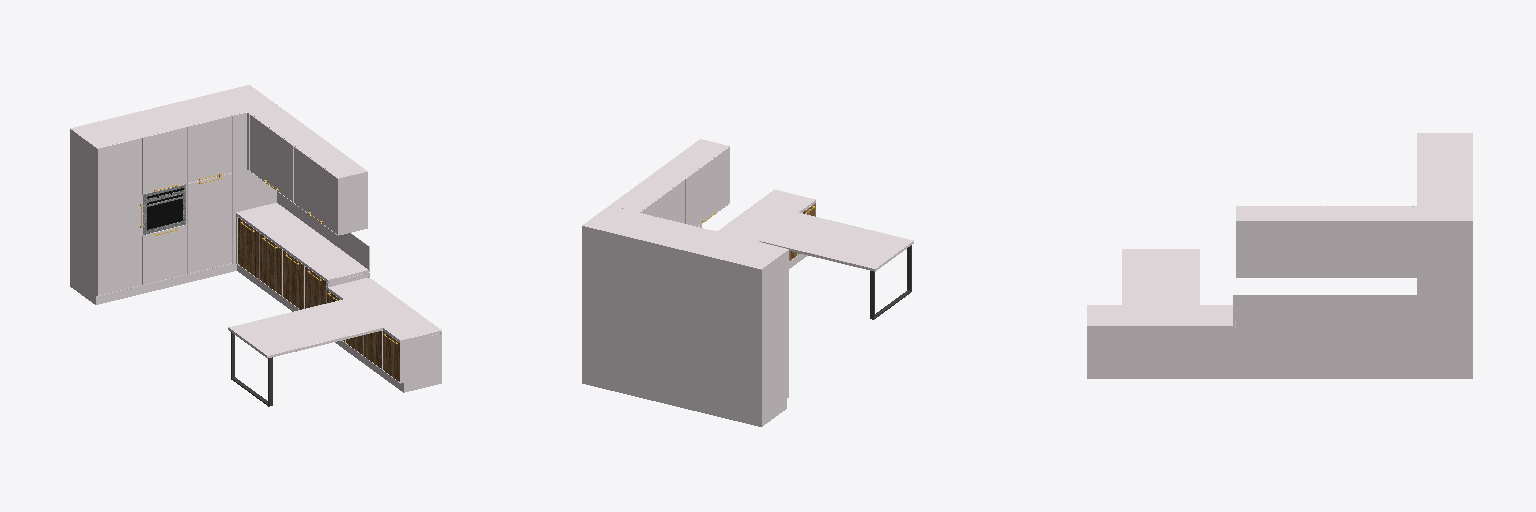
The picture shows the model from 3 angles: view 1: azimuth 30°, elevation 25°; view 2: azimuth 150°, elevation 25°; view 3: azimuth 270°, elevation 25°; orthographic projection.
Parts seen in each view (by area): view 1: Box143, Box142, Box145, Box138, Box166, Box147, Box168, Box129, Box140, Box167, Box146, Box214 (+8 smaller); view 2: Box142, Box143, Box138, Box168, Box129, Rectangle001; view 3: Box147, Box142, Box138, Box143, Box214.
Part boxes in pixels (bbox=[...]): Box143: bbox=[228, 203, 441, 358]; Box142: bbox=[70, 85, 276, 304]; Box145: bbox=[97, 105, 276, 295]; Box138: bbox=[249, 105, 367, 234]; Box166: bbox=[187, 173, 231, 274]; Box147: bbox=[237, 264, 441, 392]; Box168: bbox=[294, 146, 338, 235]; Box129: bbox=[249, 114, 293, 202]; Box140: bbox=[142, 126, 186, 194]; Box167: bbox=[187, 116, 231, 183]; Box146: bbox=[142, 224, 186, 284]; Box214: bbox=[277, 192, 369, 269]; Box142: bbox=[582, 206, 788, 426]; Box143: bbox=[717, 189, 913, 271]; Box138: bbox=[610, 139, 728, 211]; Box168: bbox=[685, 146, 729, 226]; Box129: bbox=[641, 179, 685, 223]; Rectangle001: bbox=[870, 245, 911, 319]; Box147: bbox=[1087, 321, 1420, 378]; Box142: bbox=[1419, 133, 1472, 378]; Box138: bbox=[1236, 207, 1416, 277]; Box143: bbox=[1087, 249, 1416, 327]; Box214: bbox=[1233, 295, 1416, 317].
Bounding box in the file's own units: 638526 × 535886 × 1185794.
10 materials, 2 textured.